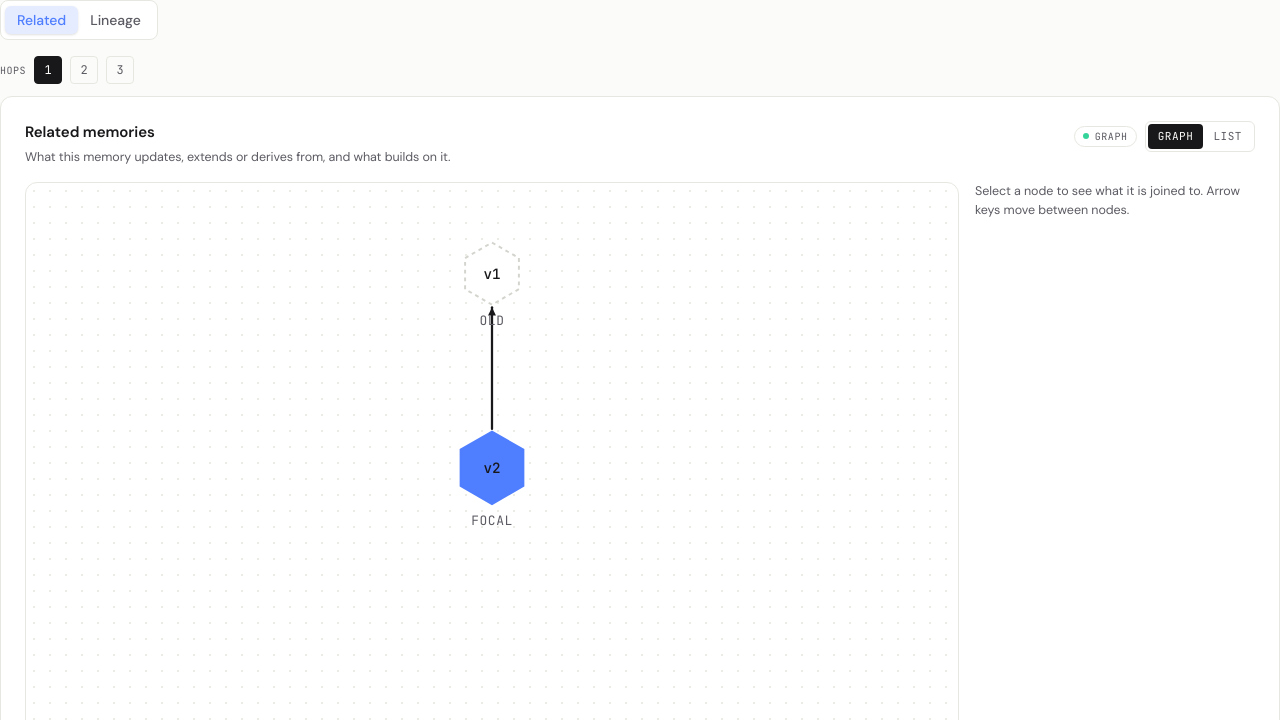
Test: MemoryConnections › pilot mode hides attribution: no owners tab, no contributor names in the lineage
Press the mouse on the tab with test id "tab-lineage" at (115, 20), box [78, 6, 153, 34]
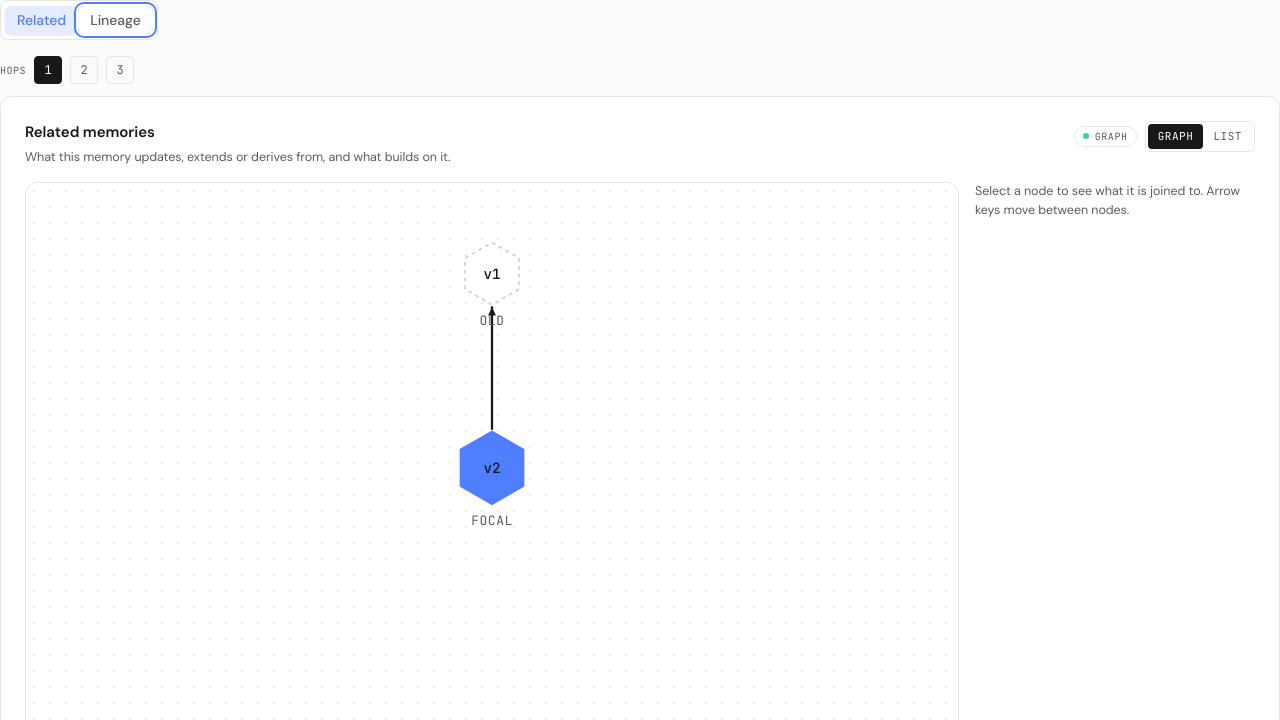
Focus the tab with test id "tab-lineage" at (115, 20), box [78, 6, 153, 34]
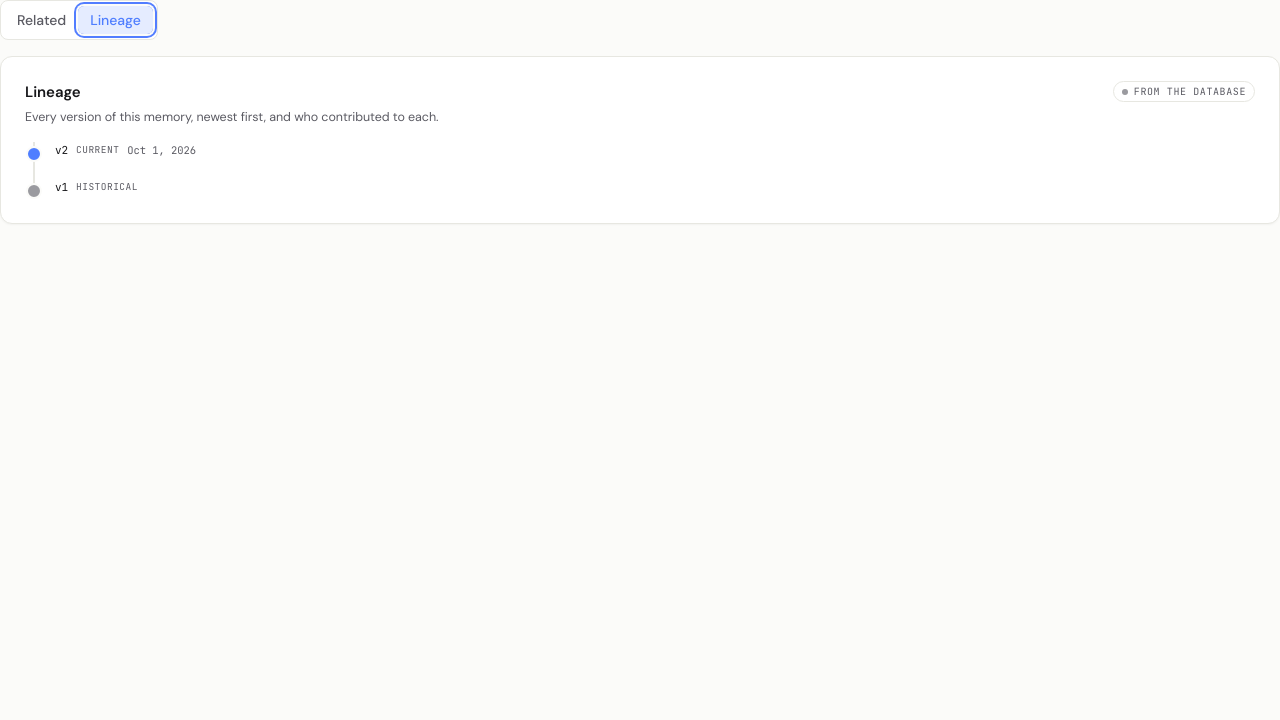
Check: the list with test id "lineage-list" shows "v2", box [33, 142, 1255, 195]
